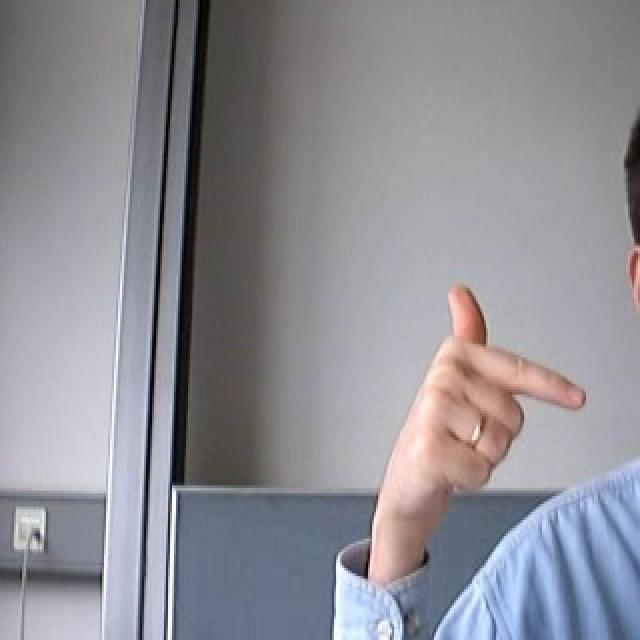T: (366, 262, 595, 528)
